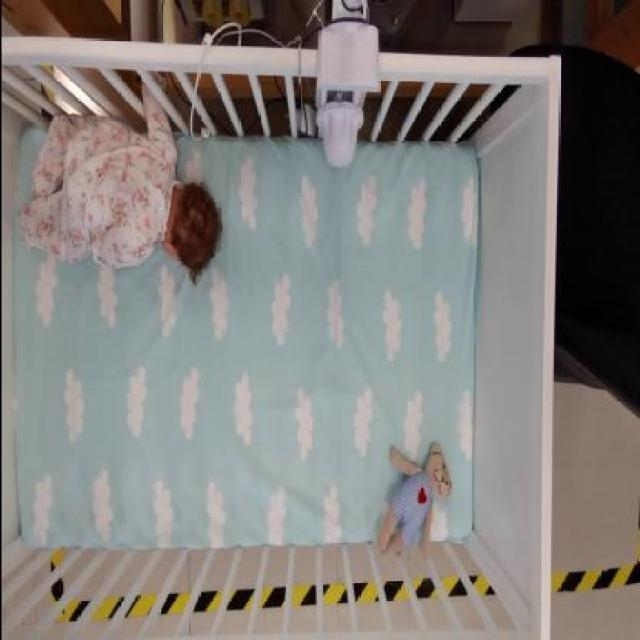baby: (20, 60, 225, 288)
